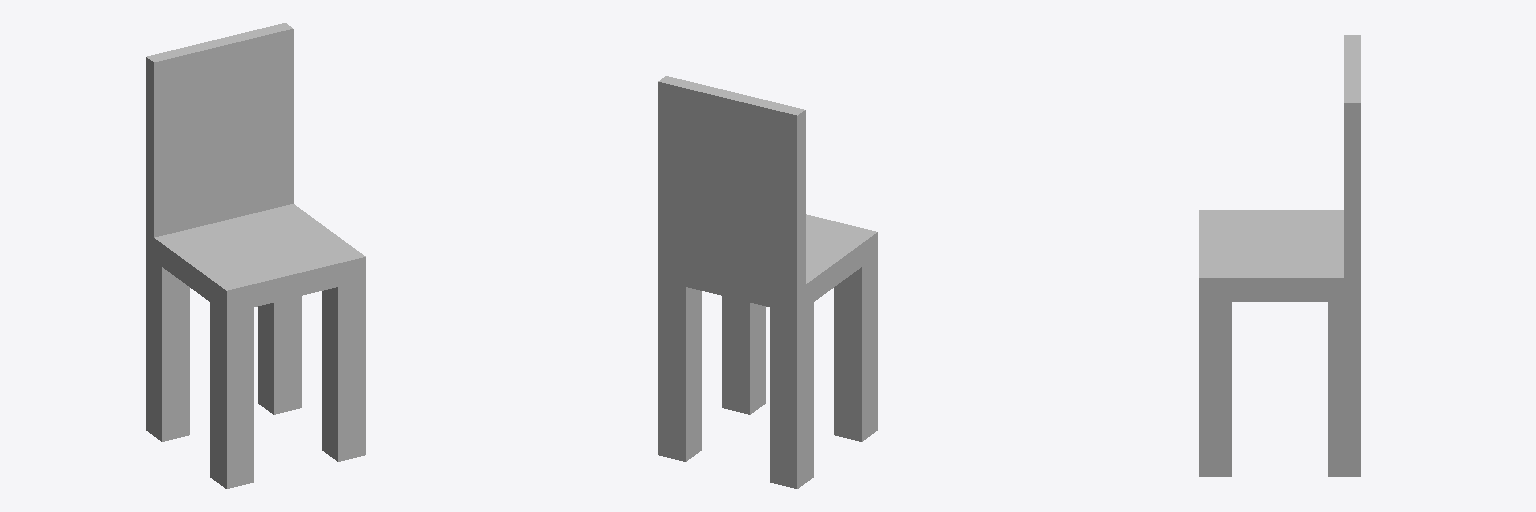
The model's file is Chair_Test_Mesh.obj.
The picture shows the model from 3 angles: view 1: azimuth 30°, elevation 25°; view 2: azimuth 150°, elevation 25°; view 3: azimuth 270°, elevation 25°; orthographic projection.
Visible parts, largest first — view 1: Chair_Test_Mesh; view 2: Chair_Test_Mesh; view 3: Chair_Test_Mesh.
Part boxes in pixels (x1,y1,x2,y2): Chair_Test_Mesh: (146, 23, 365, 488); Chair_Test_Mesh: (658, 76, 877, 488); Chair_Test_Mesh: (1199, 35, 1360, 476).
Size of the model in its own units: 1.25 by 3.2 by 1.25.